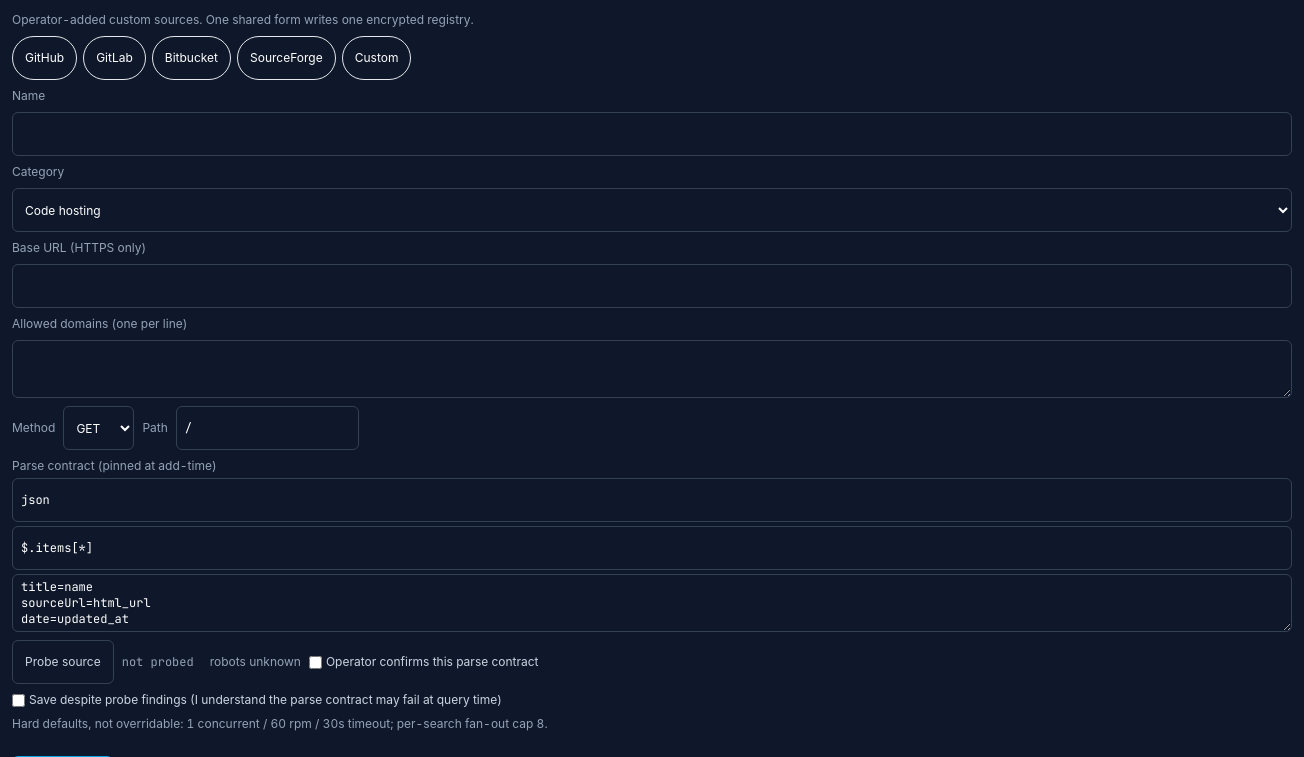
Scenario: f58 shared SourceForm (two mount points, one store) › an unwired probe never invents a request
This screenshot has width=1304, height=757.
Click the button with test id "source-form-probe-run" at (63, 662), box [12,640,114,684]
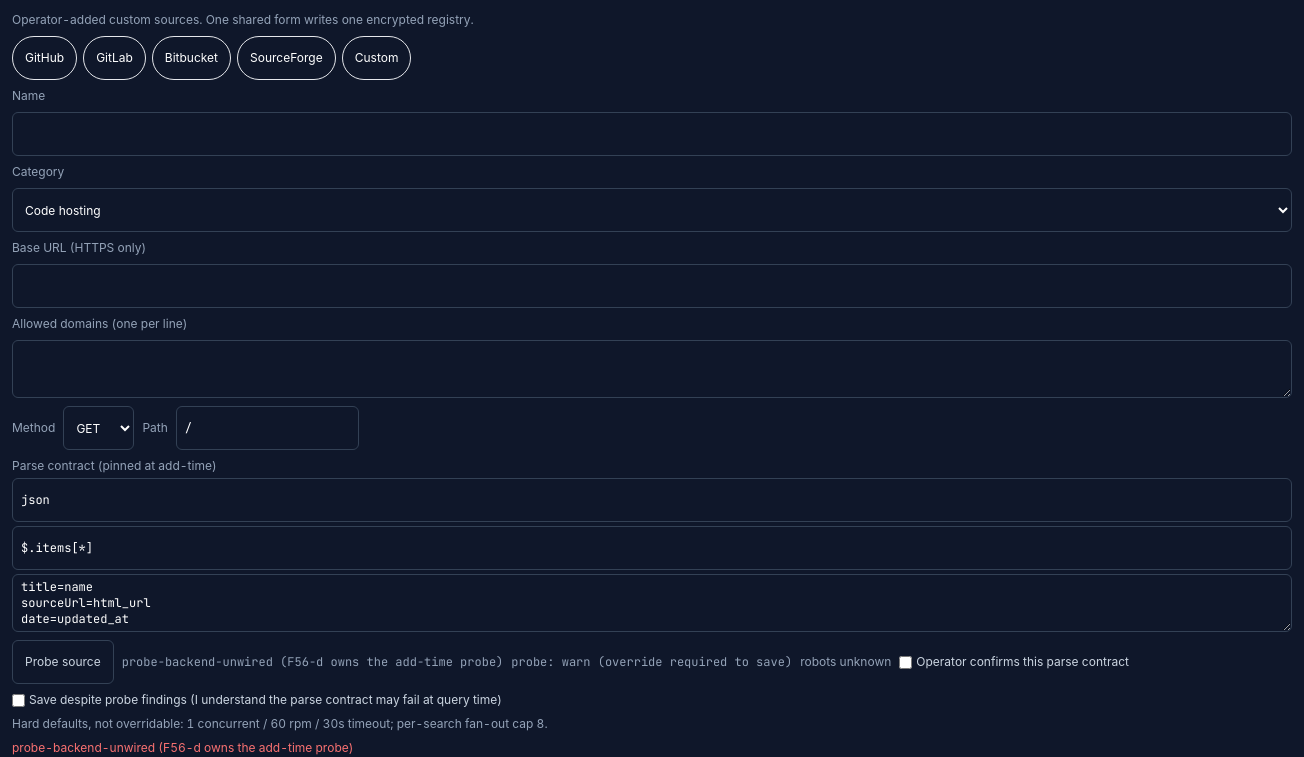
Result: the text with test id "source-form-probe-status" shows "probe-backend-unwired" at [122,654,503,670]
